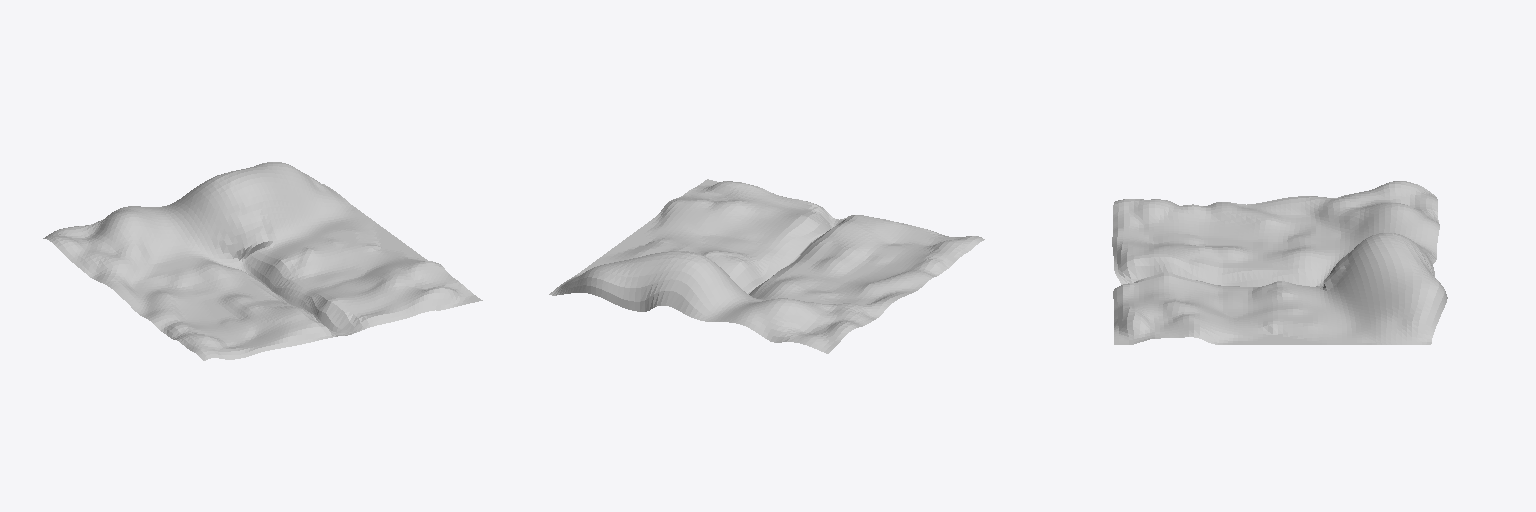
Rendered from test_map02.obj.
3 views of the same model, side by side, from view 1: azimuth 30°, elevation 25°; view 2: azimuth 150°, elevation 25°; view 3: azimuth 270°, elevation 25° (orthographic).
Parts seen in each view (by area): view 1: Plane; view 2: Plane; view 3: Plane.
Part boxes in pixels (bbox=[...]): Plane: bbox=[43, 162, 482, 360]; Plane: bbox=[549, 179, 984, 353]; Plane: bbox=[1112, 181, 1447, 344].
Size of the model in its own units: 459 by 99.52 by 461.